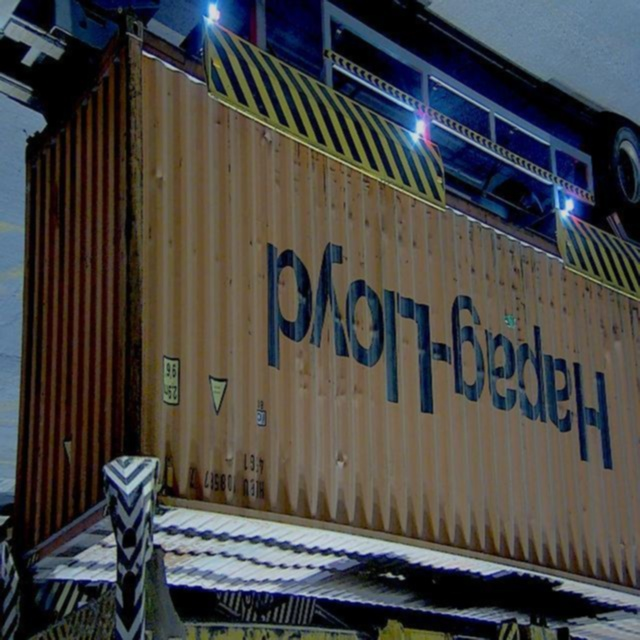Dent: (331, 425, 357, 491)
